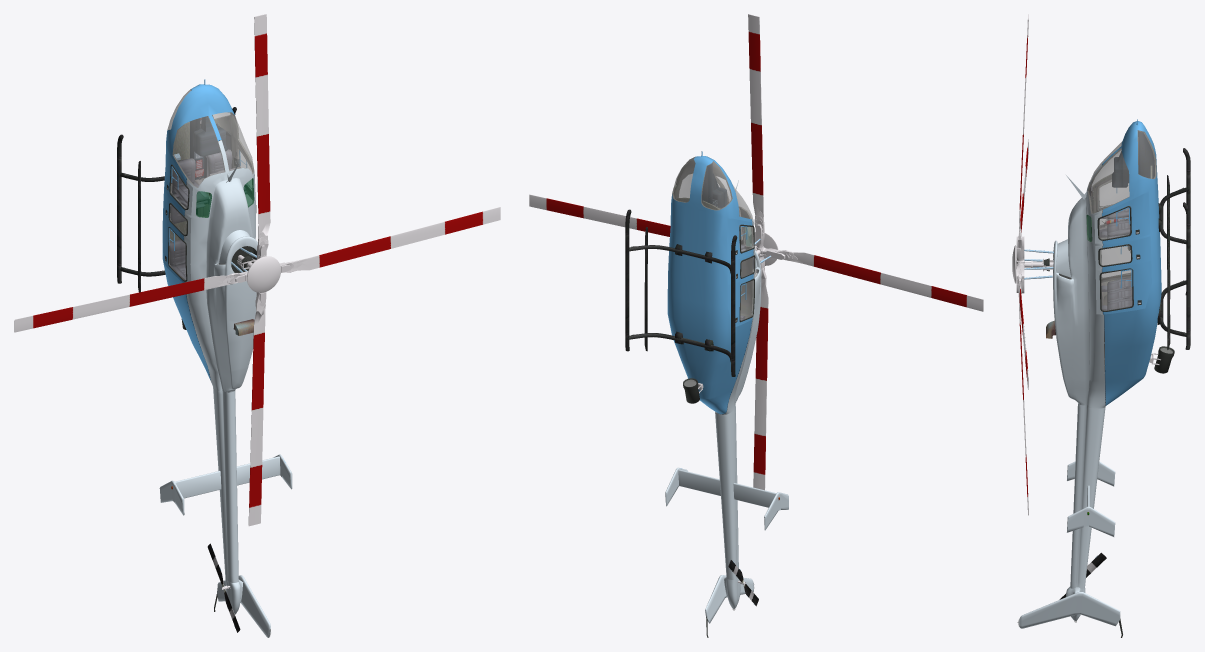
File: bell407.fbx
3 views of the same model, side by side, from view 1: azimuth 30°, elevation 25°; view 2: azimuth 150°, elevation 25°; view 3: azimuth 270°, elevation 25° (orthographic). The views are drawn at different scales.
Parts seen in each view (by area): view 1: fuselage, main_rotor, door1, door3, door2; view 2: fuselage, main_rotor, door1, door3; view 3: fuselage, door4, main_rotor, door5, door1, door3.
Boxes of the visible parts, <box> form: fuselage: <box>117,79,292,637</box>; main_rotor: <box>14,14,500,526</box>; door1: <box>162,213,190,282</box>; door3: <box>164,146,192,215</box>; door2: <box>163,188,191,241</box>; fuselage: <box>625,151,788,637</box>; main_rotor: <box>529,14,983,490</box>; door1: <box>727,274,754,326</box>; door3: <box>727,218,754,259</box>; fuselage: <box>1017,119,1190,637</box>; door4: <box>1095,260,1151,314</box>; main_rotor: <box>1012,14,1053,515</box>; door5: <box>1094,193,1150,243</box>; door1: <box>1100,237,1131,282</box>; door3: <box>1095,177,1129,212</box>.
Size of the model in its own units: 10.5 by 13.05 by 3.41.
